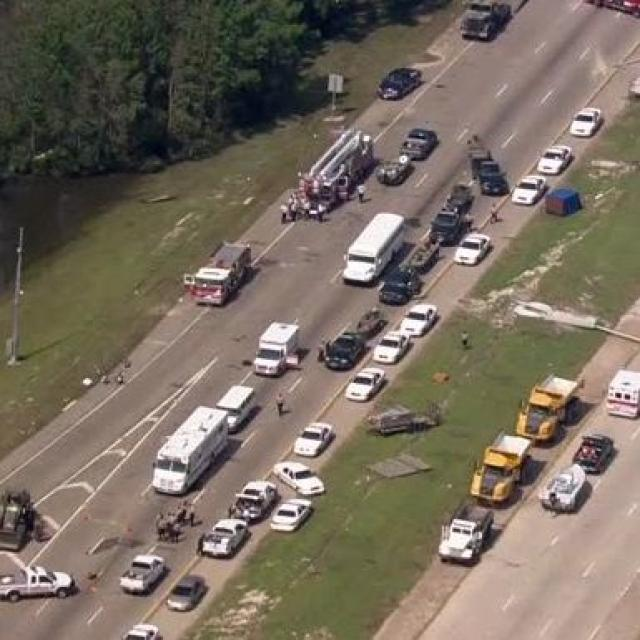traffic_incident: (0, 477, 48, 549)
